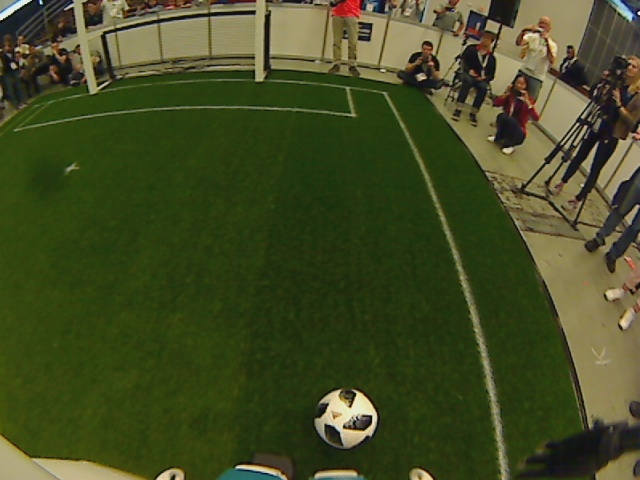ball: (312, 386, 379, 448)
